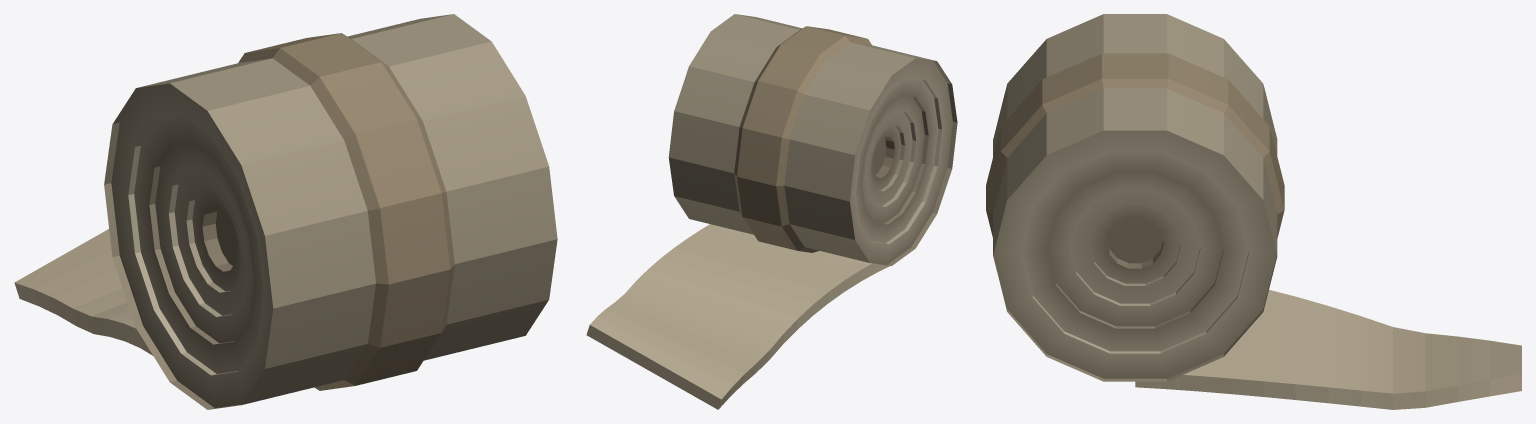
3 views of the same model, side by side, from view 1: azimuth 30°, elevation 25°; view 2: azimuth 150°, elevation 25°; view 3: azimuth 270°, elevation 25° (orthographic). The views are drawn at different scales.
Visible parts, largest first — view 1: bandage; view 2: bandage; view 3: bandage.
Part boxes in pixels (x1,y1,x2,y2): bandage: (14, 14, 557, 409); bandage: (586, 14, 957, 409); bandage: (986, 14, 1521, 409).
Bounding box in the file's own units: 0.1968 × 0.2559 × 0.377.
